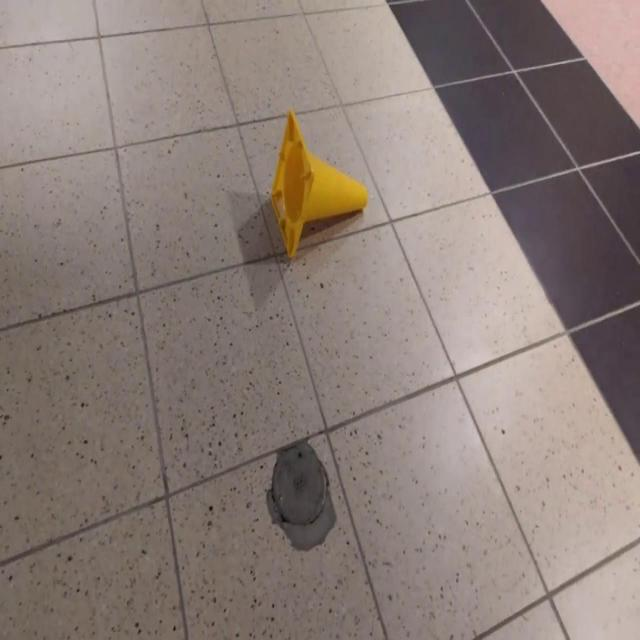frc_cone: (268, 110, 368, 262)
